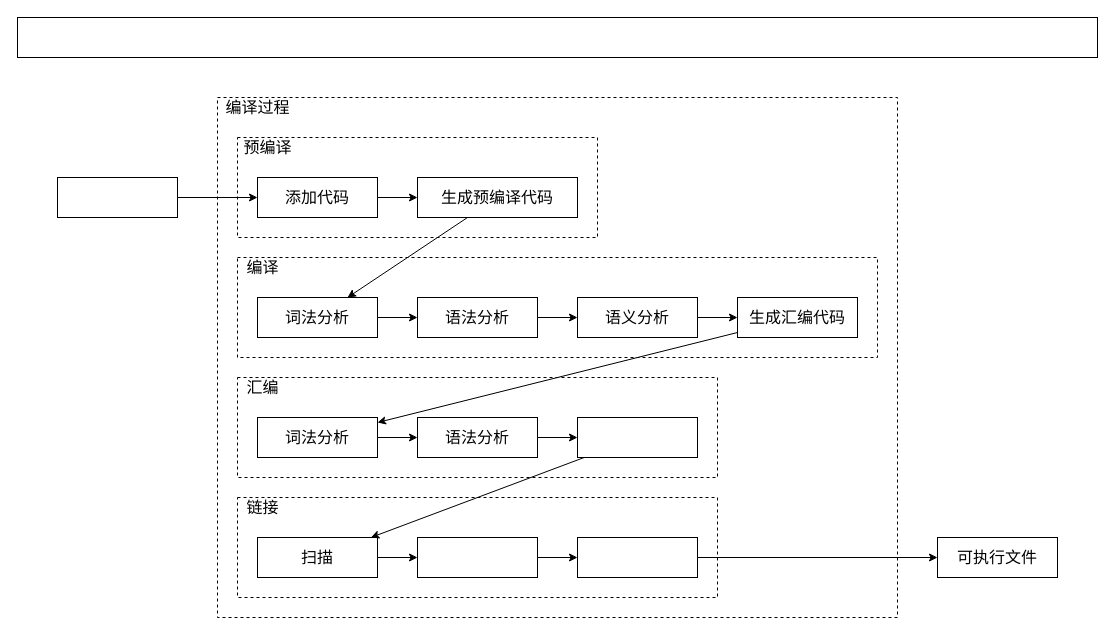
Image size: 1115x635. Some labels were removed from this diagram. Each missing label, with the centre of its shape:
生成机器指令: (637,437)
程序源代码: (117,197)
编译源代码: (557,37)
重定位: (477,557)
链接各个模块: (637,557)
